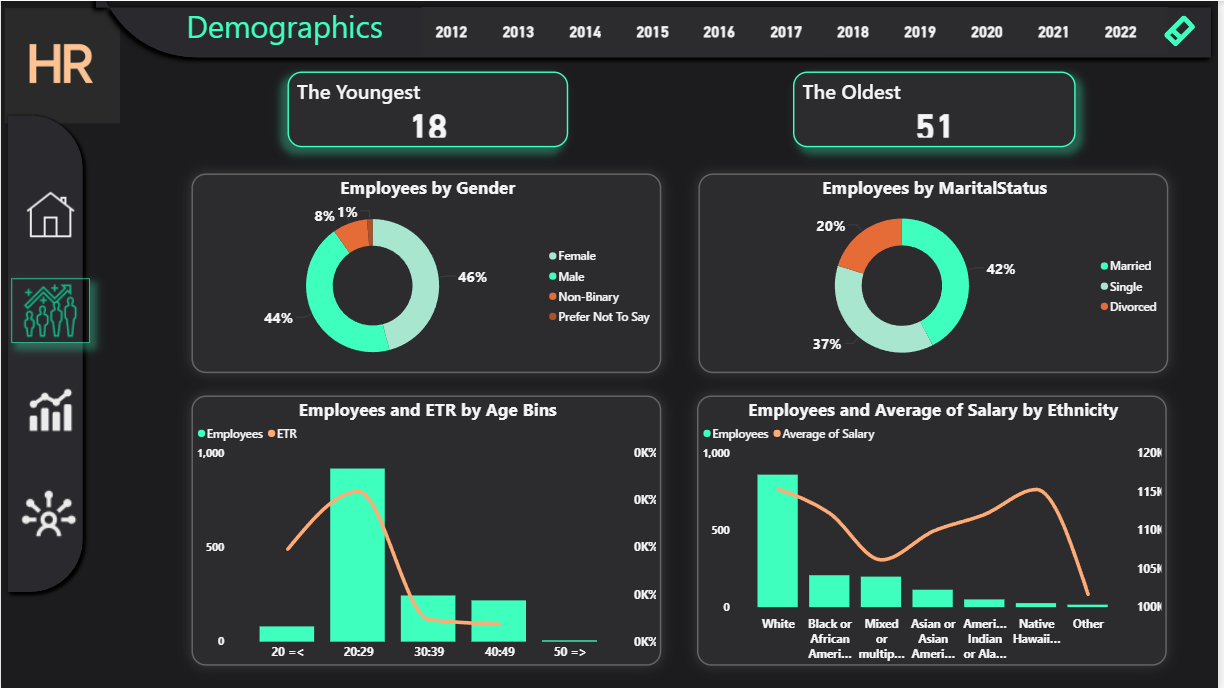

The dashboard page shown, as its layout file describes it:
{"tool":"powerbi","page":{"name":"Demographics","canvas":[1690,960],"ordinal":1},"visuals":[{"type":"image","box":[0,0,170,180],"z":0},{"type":"group","id":"g1","title":"Group 1","box":[122.5,0,1567.5,87.5],"z":1000},{"type":"shape","box":[0,150,122.5,680],"z":2000},{"type":"donutChart","fields":{"Y":["Measure.Employees"],"Category":["DimEmployee.MaritalStatus"]},"box":[970,240,652.5,277.5],"z":3000},{"type":"donutChart","fields":{"Y":["Measure.Employees"],"Category":["DimEmployee.Gender"]},"box":[265,240,652.5,277.5],"z":4000},{"type":"lineClusteredColumnComboChart","fields":{"Category":["DimEmployee.Ethnicity"],"Y":["Measure.Employees"],"Y2":["Avg(DimEmployee.Salary)"]},"box":[967.5,547.5,652.5,375],"z":5000},{"type":"shape","box":[122.5,0,1567.5,87.5],"z":5500,"group":"g1"},{"type":"textbox","box":[128.8,0,529.3,75],"z":6000,"group":"g1"},{"type":"lineStackedColumnComboChart","fields":{"Category":["DimEmployee.Age Bins"],"Y":["Measure.Employees"],"Y2":["Measure.ETR"]},"box":[265,547.5,652.5,375],"z":6000},{"type":"advancedSlicerVisual","fields":{"Values":["DimDate.Date.Variation.Date Hierarchy.Year"]},"box":[585,7.5,1035,67.5],"z":7000},{"type":"actionButton","box":[1602.5,17.5,70,50],"z":8000},{"type":"card","title":"The Youngest","fields":{"Values":["Min(DimEmployee.Age)"]},"box":[397.5,97.5,390,105],"z":9000},{"type":"card","title":"The Oldest","fields":{"Values":["Max(DimEmployee.Age)"]},"box":[1100,97.5,392.5,105],"z":10000},{"type":"image","box":[10,660.6,112.5,102.1],"z":11000},{"type":"image","box":[14.1,258.4,108.4,79.2],"z":12000},{"type":"image","box":[14.1,523.1,108.4,89.6],"z":13000},{"type":"image","box":[14.1,385.5,108.4,89.6],"z":14000}]}

Visuals, with their boxes in screenshot pixels (x1, y1, x2, y2), scaled from the page's 1690x960 canvas onto the 1224x688 screenshot:
image: box=[0, 0, 123, 129]
"Group 1" group: box=[89, 0, 1223, 63]
shape: box=[0, 108, 89, 595]
donutChart - Measure.Employees x DimEmployee.MaritalStatus: box=[703, 172, 1175, 371]
donutChart - Measure.Employees x DimEmployee.Gender: box=[192, 172, 665, 371]
lineClusteredColumnComboChart - DimEmployee.Ethnicity x Measure.Employees: box=[701, 392, 1173, 661]
shape: box=[89, 0, 1223, 63]
textbox: box=[93, 0, 477, 54]
lineStackedColumnComboChart - DimEmployee.Age Bins x Measure.Employees: box=[192, 392, 665, 661]
advancedSlicerVisual - DimDate.Date.Variation.Date Hierarchy.Year: box=[424, 5, 1173, 54]
actionButton: box=[1161, 13, 1211, 48]
"The Youngest" card: box=[288, 70, 570, 145]
"The Oldest" card: box=[797, 70, 1081, 145]
image: box=[7, 473, 89, 547]
image: box=[10, 185, 89, 242]
image: box=[10, 375, 89, 439]
image: box=[10, 276, 89, 340]
